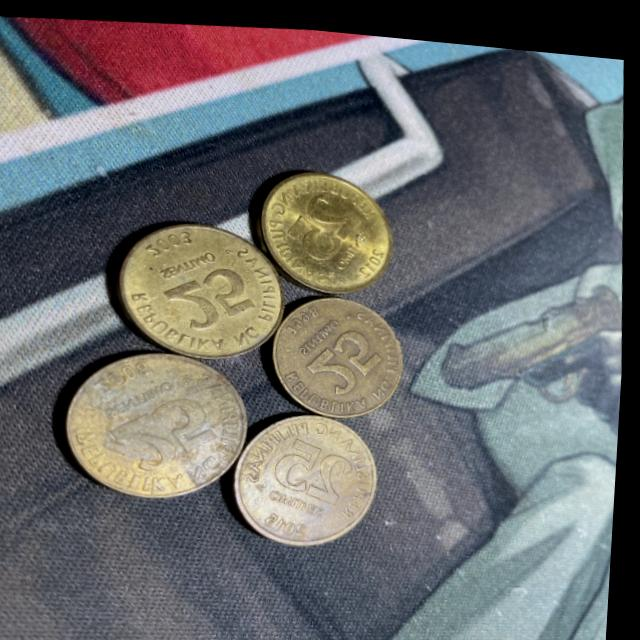25Cent_Old_Front: (113, 390, 223, 476), (168, 254, 261, 331), (307, 314, 392, 395), (276, 427, 363, 505), (282, 182, 366, 258)
